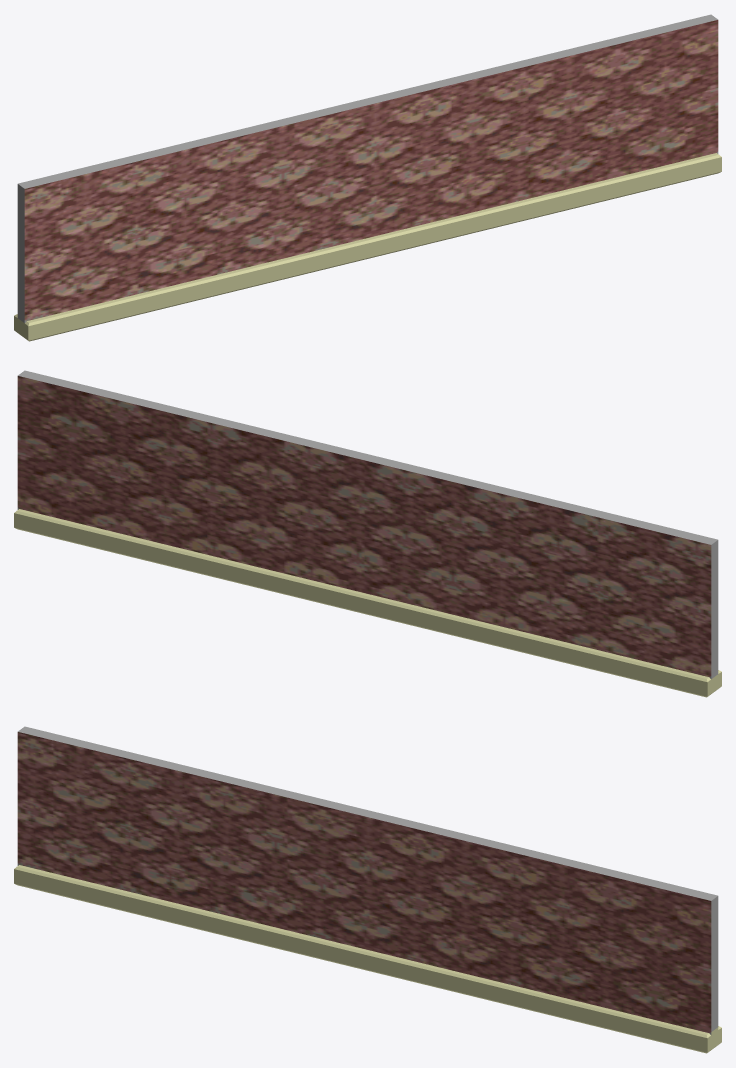
Rendered from walls.fbx.
The picture shows the model from 3 angles, top to bottom: view 1: azimuth 30°, elevation 25°; view 2: azimuth 150°, elevation 25°; view 3: azimuth 330°, elevation 25°; orthographic projection.
Visible parts, largest first — view 1: pCube1; view 2: pCube1; view 3: pCube1.
Part boxes in pixels (x1,y1,x2,y2): pCube1: [14, 14, 721, 341]; pCube1: [14, 370, 721, 697]; pCube1: [14, 726, 721, 1053].
Bounding box in the file's own units: 12.59 × 2.62 × 0.4533.
4 materials, 2 textured.
